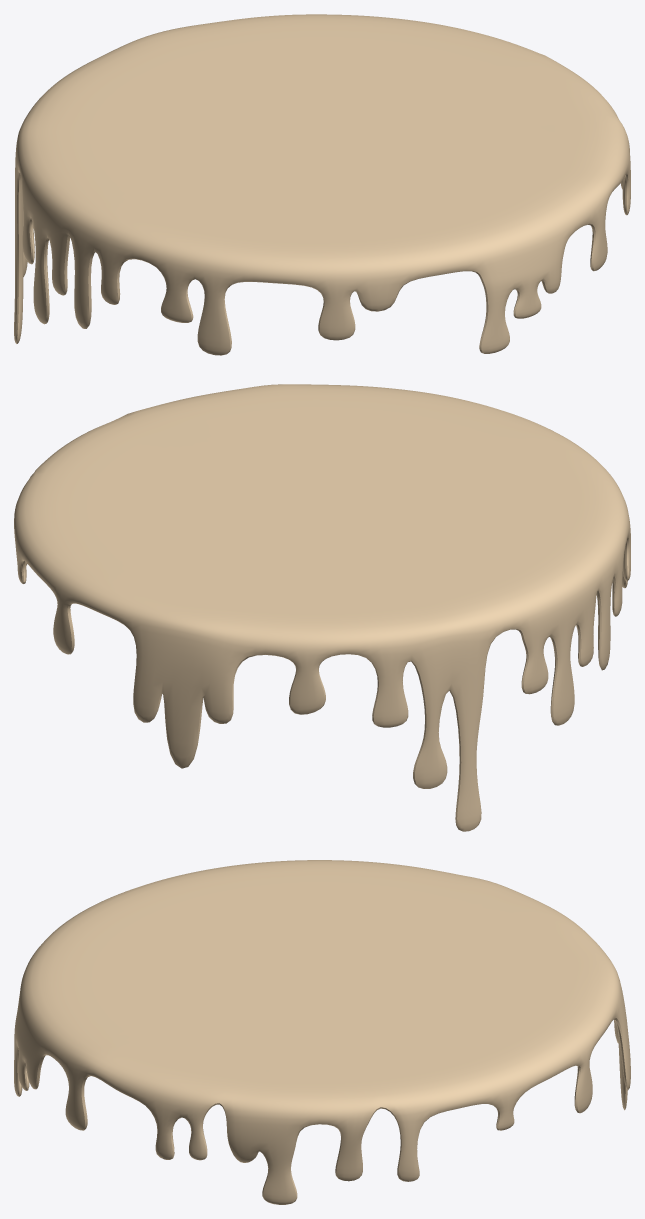
File: GlazeCream2.glb
3 views of the same model, one above another, from view 1: azimuth 30°, elevation 25°; view 2: azimuth 150°, elevation 25°; view 3: azimuth 270°, elevation 25° (orthographic). The views are drawn at different scales.
Parts seen in each view (by area): view 1: Cylinder.004; view 2: Cylinder.004; view 3: Cylinder.004.
Boxes of the visible parts, left/top/right/bottom form: Cylinder.004: left=14, top=14, right=630, bottom=355; Cylinder.004: left=14, top=384, right=630, bottom=831; Cylinder.004: left=14, top=860, right=630, bottom=1204.
Bounding box in the file's own units: 2.02 × 0.7643 × 2.08.
